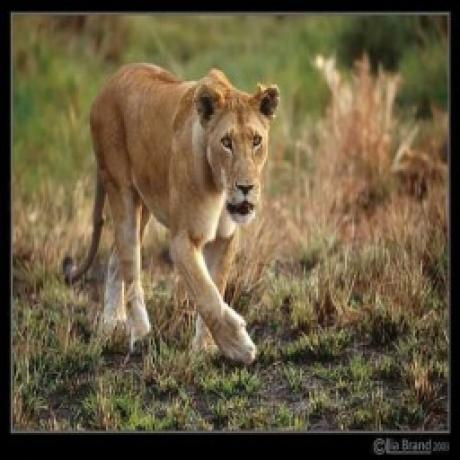Lion: (66, 48, 286, 364)
